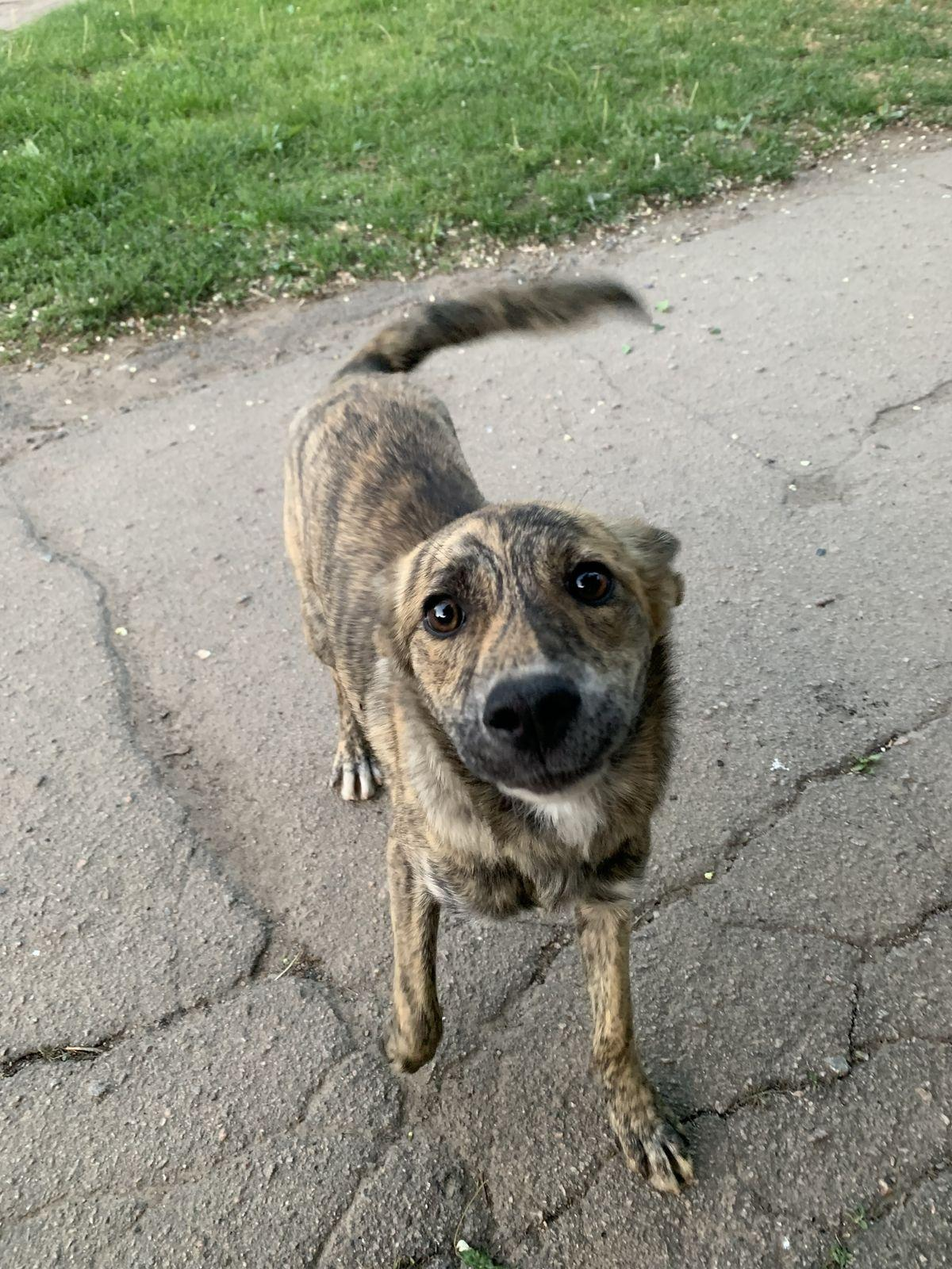dog: (285, 280, 691, 1190)
